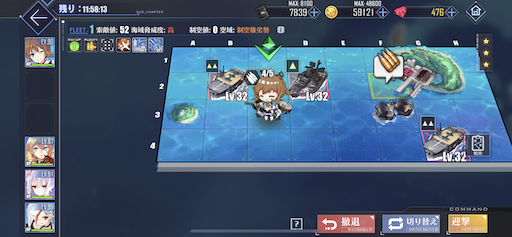lv1: (286, 53, 336, 105)
lv2: (415, 113, 471, 164), (202, 57, 253, 106)
